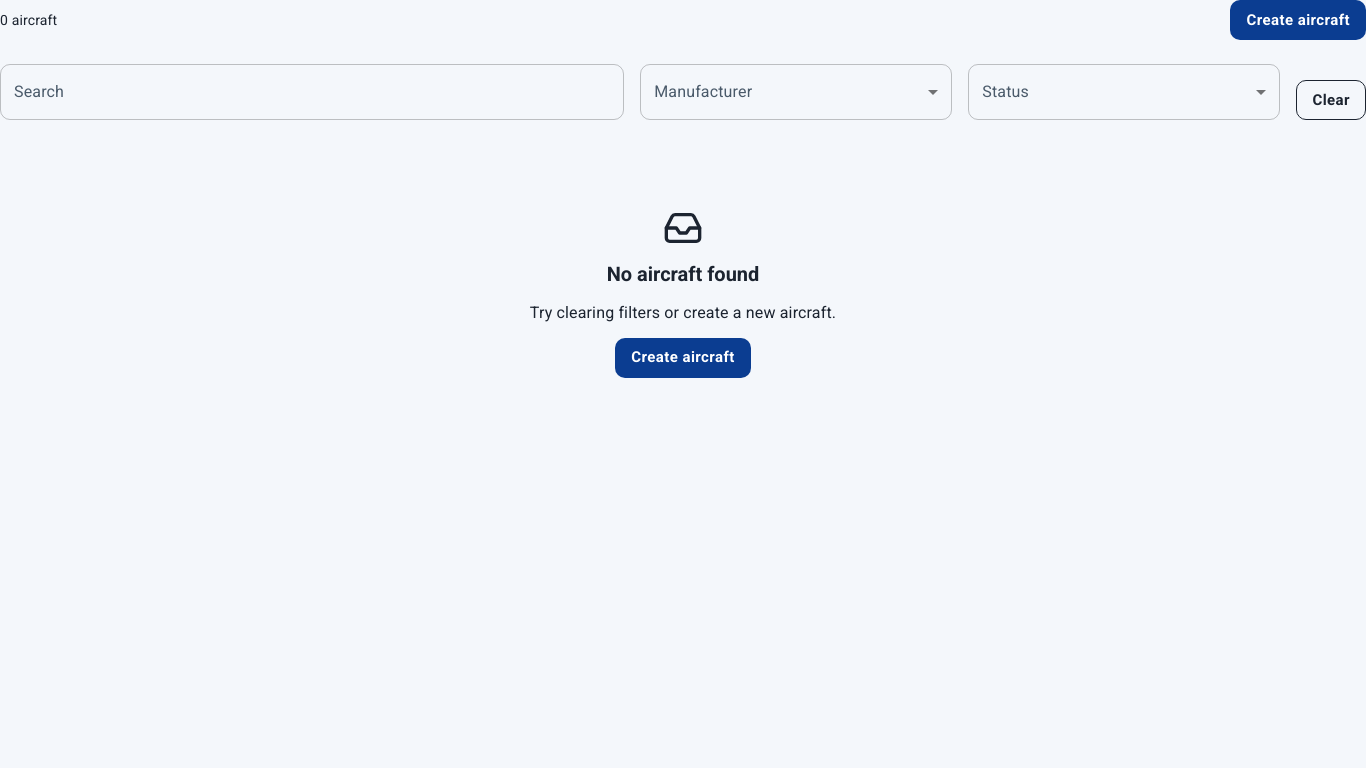
Scenario: AdminAircraftView › shows an empty state when no aircraft match and can open create from it
Expected: the heading "No aircraft found" is shown, left=607, top=260, right=759, bottom=288
Expected: the text "0 aircraft" is shown, left=0, top=9, right=57, bottom=31
Step 1. Click the button "Create aircraft" below "No aircraft found" → click(683, 358), box left=615, top=338, right=751, bottom=378
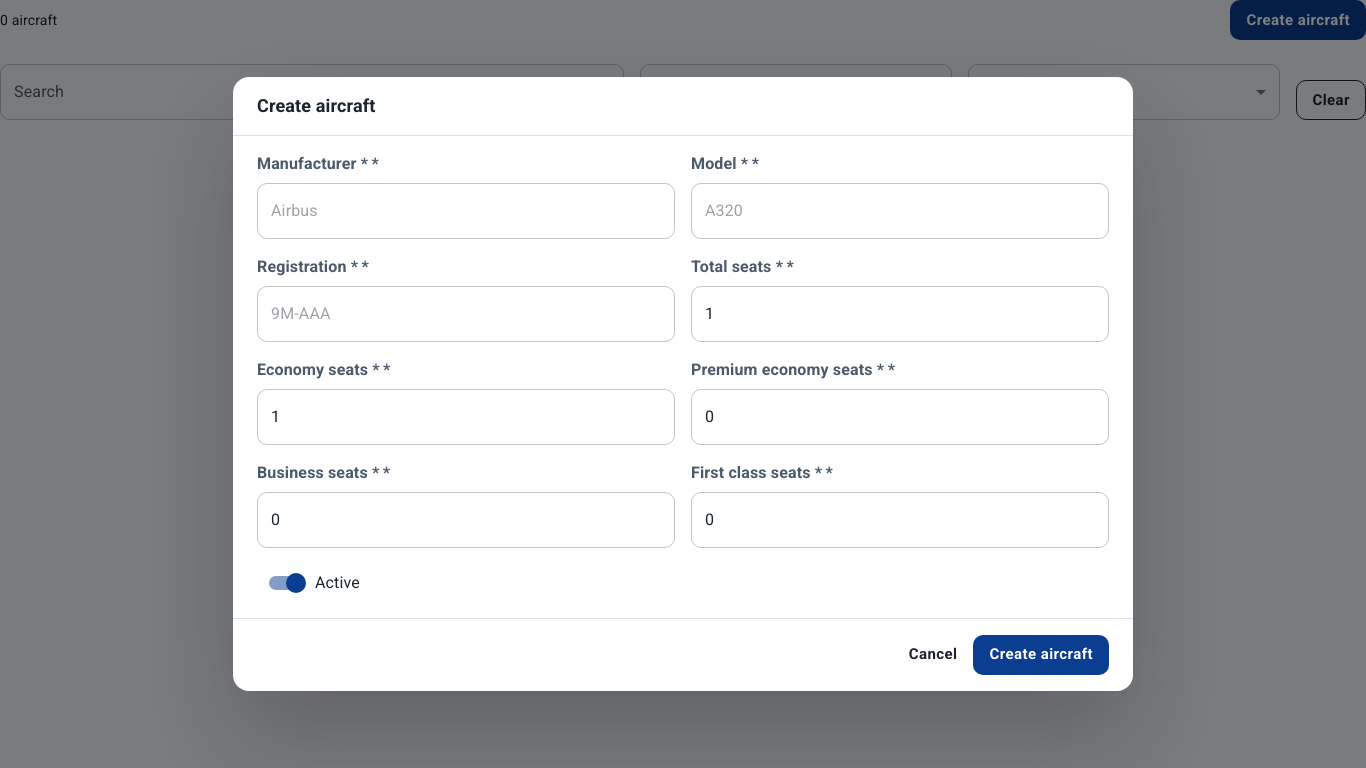
Expected: the heading "Create aircraft" is shown, left=257, top=95, right=376, bottom=116
